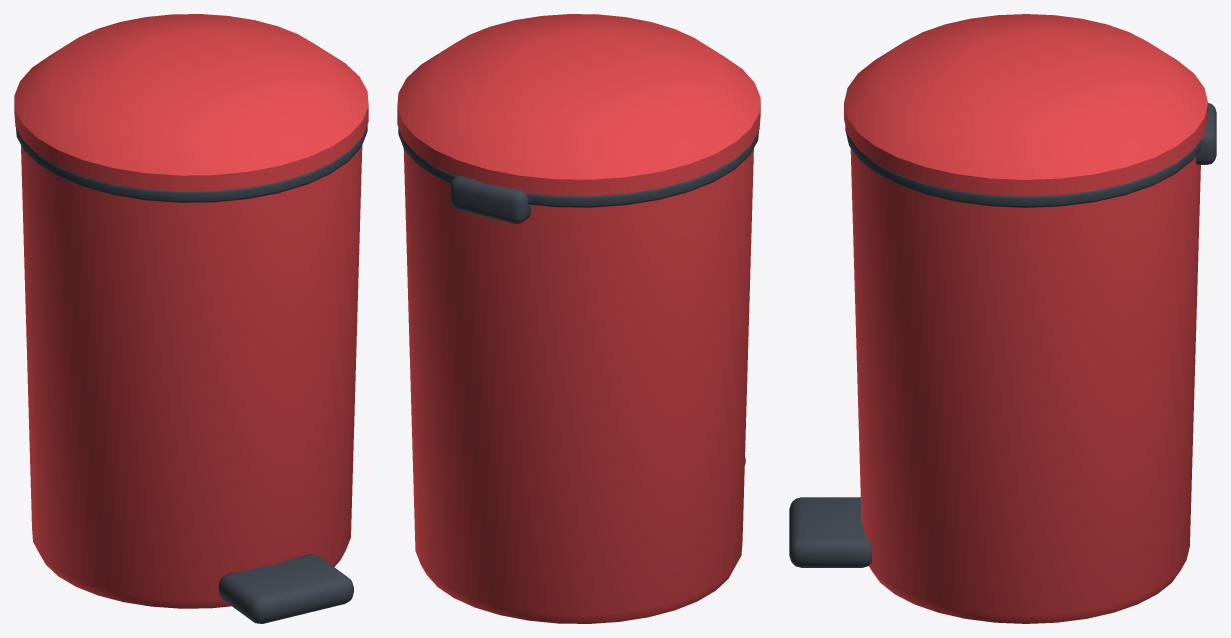
File: lixeira_pedal_vermelha.glb
3 renders of one model, left to right at view 1: azimuth 30°, elevation 25°; view 2: azimuth 150°, elevation 25°; view 3: azimuth 270°, elevation 25°, orthographic. The views are drawn at different scales.
Parts seen in each view (by area): view 1: lixeira_pedal_vermelha, tampa; view 2: lixeira_pedal_vermelha, tampa; view 3: lixeira_pedal_vermelha, tampa.
Part boxes in pixels (left/top/right/bottom): lixeira_pedal_vermelha: left=16, top=125, right=367, bottom=623; tampa: left=14, top=14, right=368, bottom=191; lixeira_pedal_vermelha: left=398, top=128, right=758, bottom=623; tampa: left=397, top=14, right=760, bottom=196; lixeira_pedal_vermelha: left=789, top=103, right=1216, bottom=623; tampa: left=844, top=14, right=1207, bottom=196.
Bounding box in the file's own units: 0.3 × 0.454 × 0.352.
Materials: 1 (1 with a texture image).
